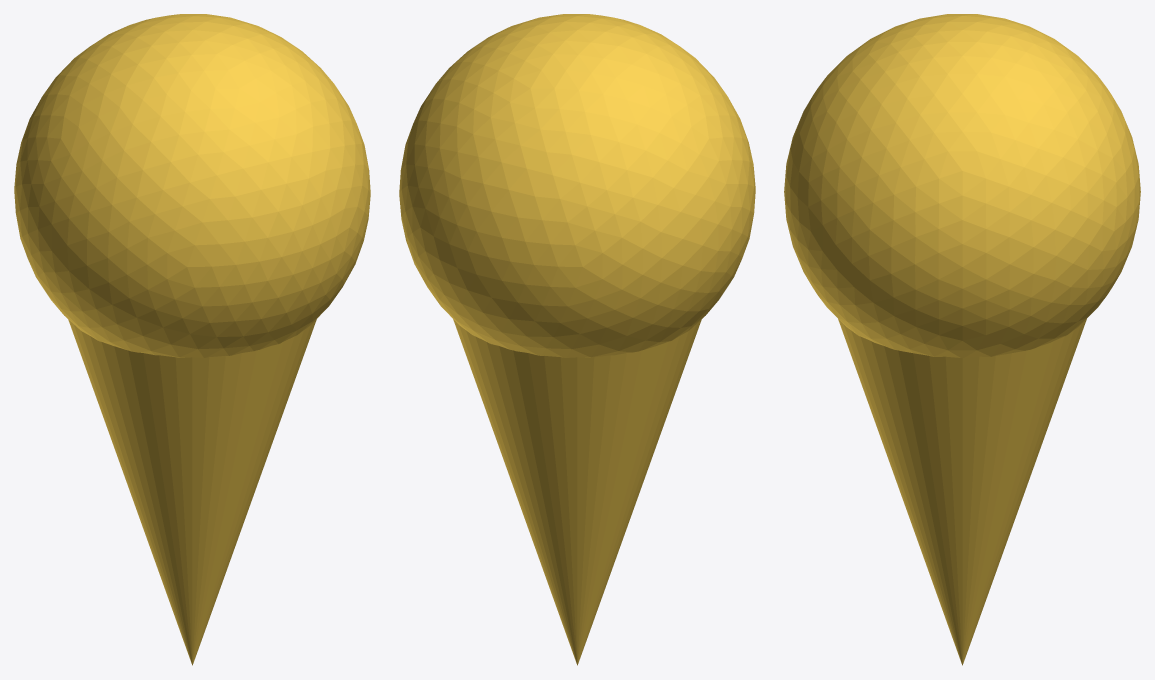
The model's file is marker_medium.glb.
The picture shows the model from 3 angles, left to right: view 1: azimuth 30°, elevation 25°; view 2: azimuth 150°, elevation 25°; view 3: azimuth 270°, elevation 25°; orthographic projection.
Parts seen in each view (by area): view 1: world; view 2: world; view 3: world.
Boxes of the visible parts, x1,y1,x2,y2 form: world: (14, 14, 370, 665); world: (399, 14, 755, 665); world: (784, 14, 1140, 665).
Size of the model in its own units: 0.12 by 0.236 by 0.12.
